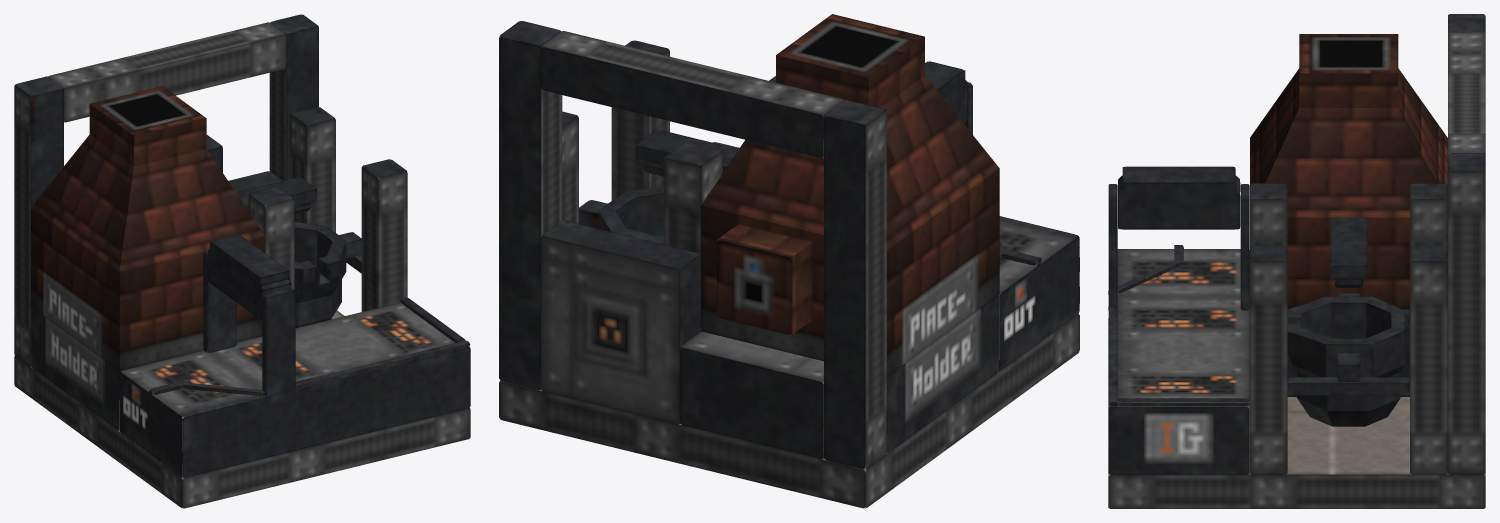
Rendered from new_foundry.obj.
3 renders of one model, left to right at view 1: azimuth 30°, elevation 25°; view 2: azimuth 150°, elevation 25°; view 3: azimuth 270°, elevation 25°, orthographic. The views are drawn at different scales.
Visible parts, largest first — view 1: frame, furnace_body, molten_metal_bucket, furnace_poor_spout, power_input_block; view 2: frame, furnace_body, power_input_block, cube, molten_metal_bucket, furnace_poor_spout; view 3: frame, furnace_body, molten_metal_bucket, furnace_poor_spout.
Part boxes in pixels (x1,y1,x2,y2): frame: (14, 14, 470, 508); furnace_body: (31, 86, 463, 477); molten_metal_bucket: (294, 222, 361, 327); furnace_poor_spout: (236, 177, 361, 273); power_input_block: (228, 171, 282, 191); frame: (499, 21, 1079, 508); furnace_body: (680, 14, 1078, 459); power_input_block: (541, 220, 701, 424); cube: (717, 224, 812, 335); molten_metal_bucket: (579, 185, 664, 244); furnace_poor_spout: (608, 129, 738, 203); frame: (1108, 14, 1485, 508); furnace_body: (1108, 34, 1447, 474); molten_metal_bucket: (1287, 293, 1405, 426); furnace_poor_spout: (1287, 217, 1409, 395).
Size of the model in its own units: 4.94 by 4.94 by 5.
1 material, 1 textured.
